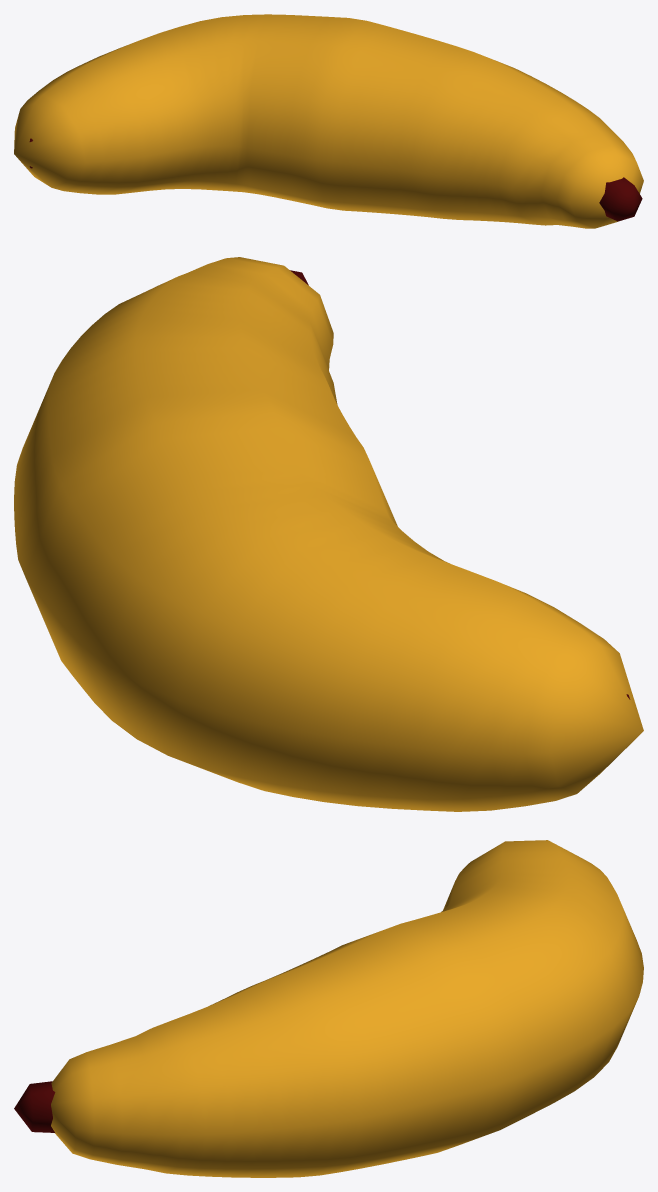
The model's file is shot_banana.glb.
3 renders of one model, top to bottom at view 1: azimuth 30°, elevation 25°; view 2: azimuth 150°, elevation 25°; view 3: azimuth 270°, elevation 25°, orthographic. The views are drawn at different scales.
Visible parts, largest first — view 1: ba_body, ba_stalk; view 2: ba_body; view 3: ba_body, ba_stalk.
Part boxes in pixels (x1,y1,x2,y2): ba_body: [14, 14, 643, 228]; ba_stalk: [599, 177, 642, 221]; ba_body: [14, 257, 643, 811]; ba_body: [51, 840, 643, 1177]; ba_stalk: [14, 1081, 55, 1132].
Size of the model in its own units: 11.02 by 3.77 by 10.95.
